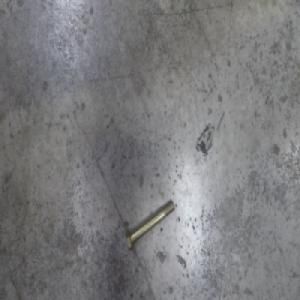Bolt: (125, 197, 175, 254)
